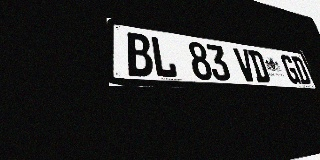3: (205, 44, 231, 81)
8: (187, 41, 214, 80)
B: (125, 32, 154, 77)
D: (247, 50, 271, 83), (291, 56, 312, 85)
G: (280, 54, 301, 84)
L: (150, 35, 178, 78)
V: (233, 47, 257, 82)
